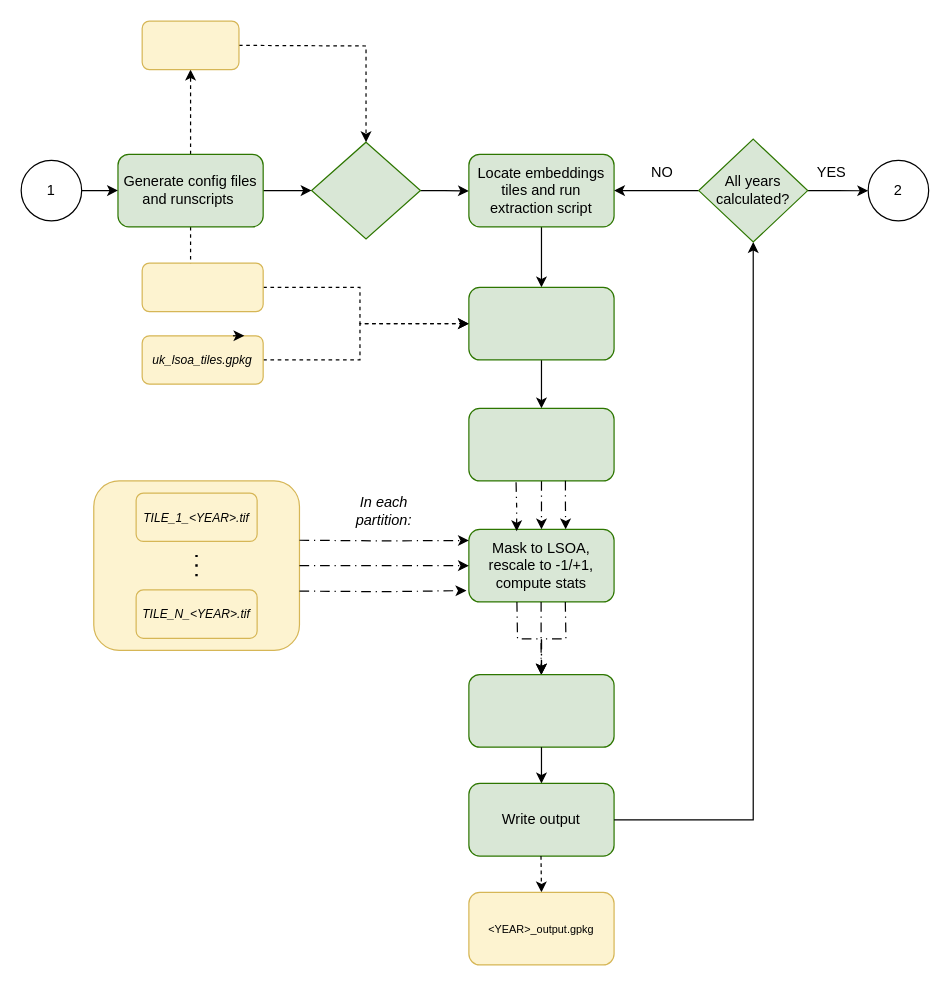
The diagram is 950 pixels wide and 986 high, and some of its shapes have lost their labels. Here are the shapes that lost their labels. From the top down, the box of each, then its label:
(141, 20, 239, 70): run_$YEAR.sh
(310, 141, 420, 239): Loop over all years
(141, 262, 263, 312): config_$YEAR.yaml
(468, 286, 614, 360): Load LSOAs, create tile ID <--> filename mapping
(468, 407, 614, 481): Partition LSOA polygons (Dask)
(468, 673, 614, 747): Aggregate with area-weighted mean
